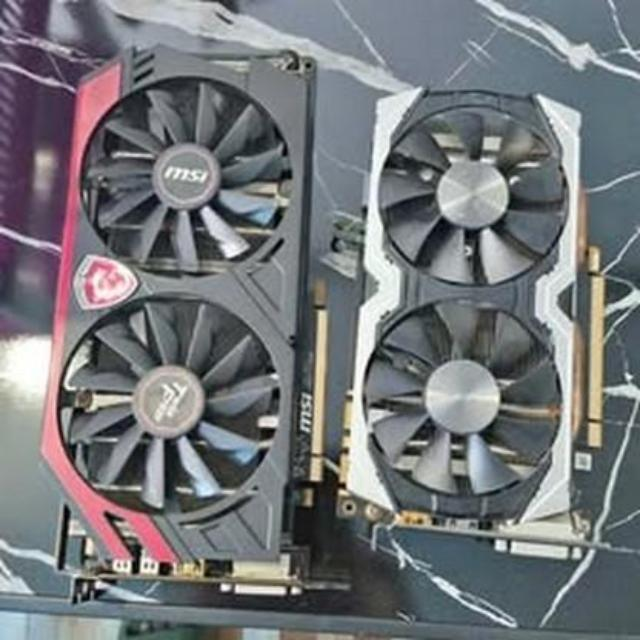GPU: (41, 28, 327, 614), (348, 73, 600, 564)
